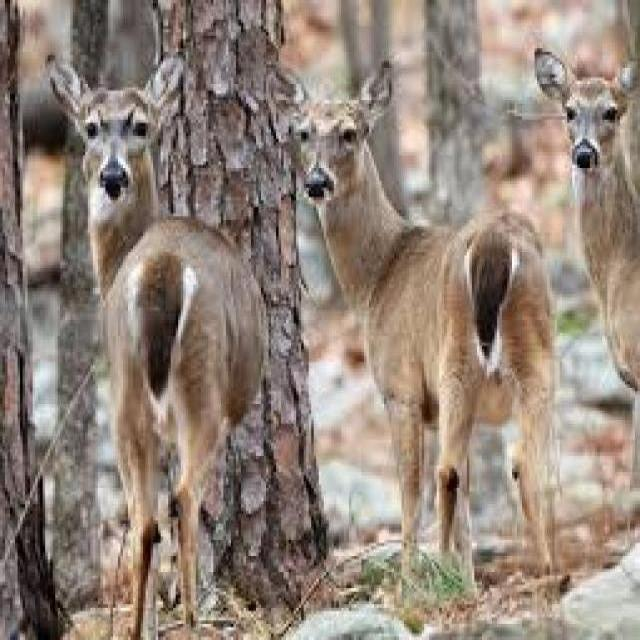deer: (275, 66, 556, 570), (41, 53, 268, 639), (532, 46, 640, 399)
